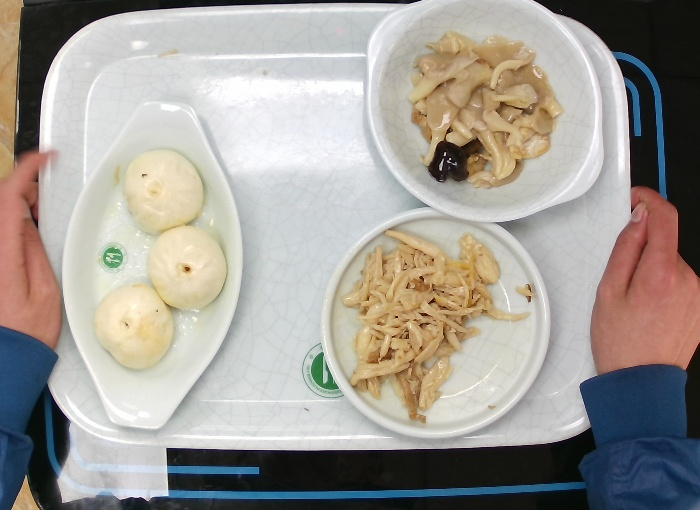JYsf-Shuang_Er_Wan: (360, 4, 611, 226)
JYsf-Xiao_Yuan_Pan: (315, 200, 555, 444)
JYsf-Yu_Pan: (55, 96, 247, 434)
